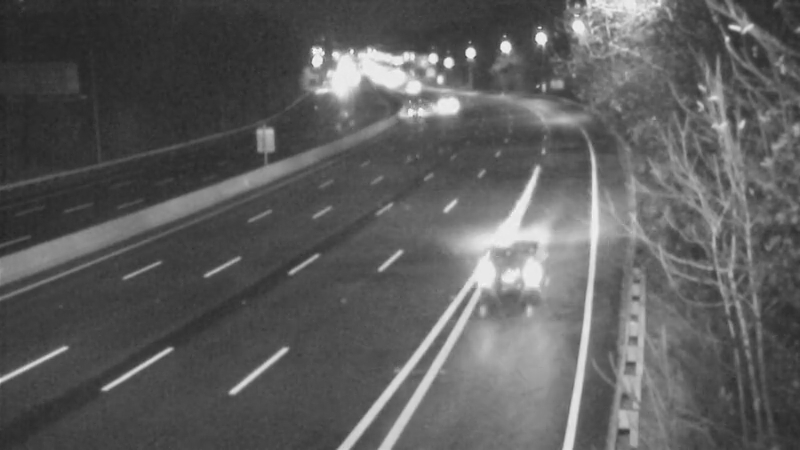vehicle: (475, 243, 555, 323), (414, 84, 464, 134), (392, 78, 442, 128)
